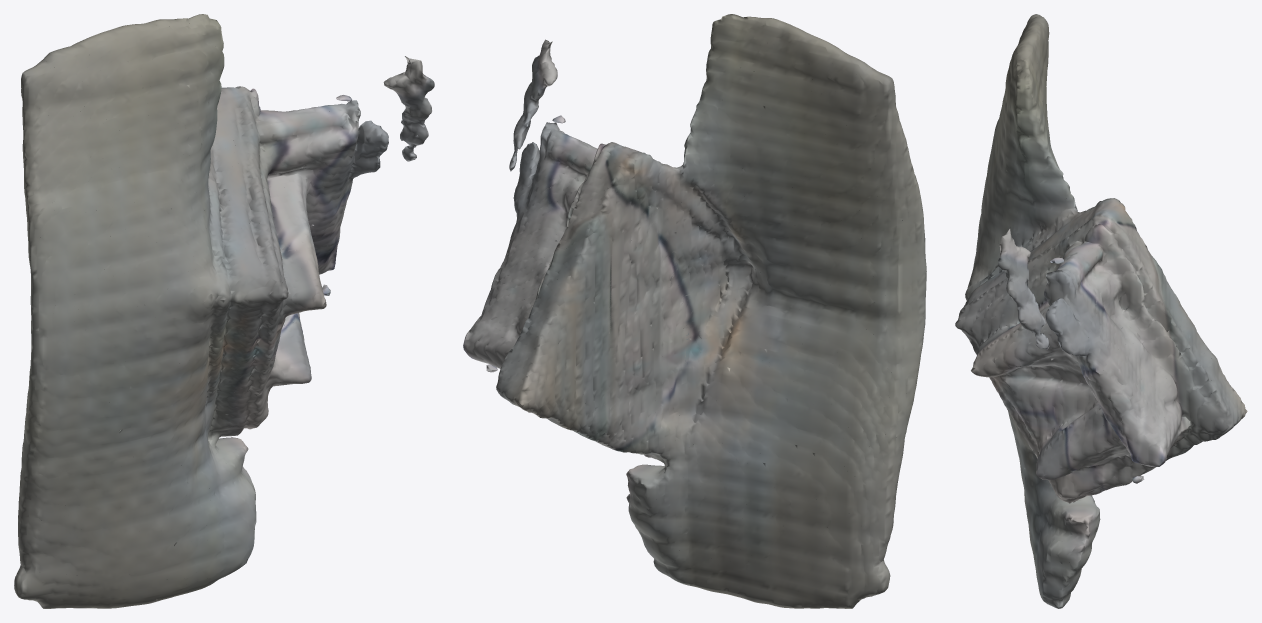
Rendered from clean.glb.
3 renders of one model, left to right at view 1: azimuth 30°, elevation 25°; view 2: azimuth 150°, elevation 25°; view 3: azimuth 270°, elevation 25°, orthographic. The views are drawn at different scales.
Visible parts, largest first — view 1: raw; view 2: raw; view 3: raw.
Boxes of the visible parts, x1,y1,x2,y2 form: raw: (14,14,434,608); raw: (463,14,926,608); raw: (955,14,1247,608).
Size of the model in its own units: 0.7232 by 1 by 0.5001.
Materials: 1 (1 with a texture image).
